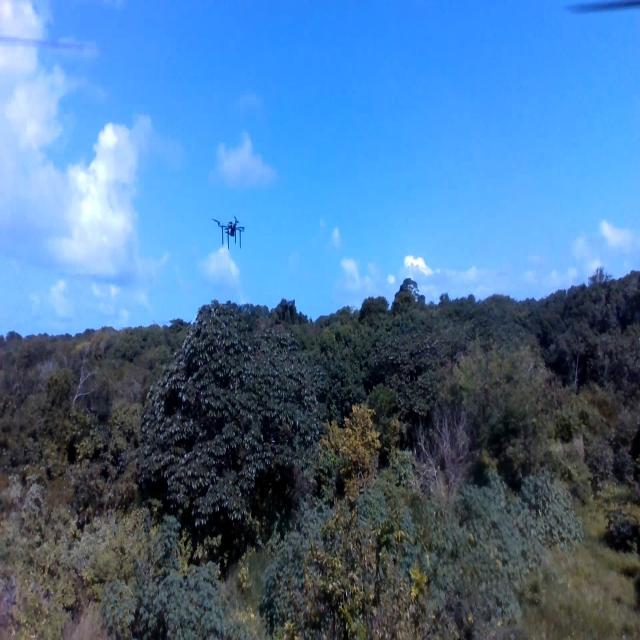-uav-: (207, 204, 251, 258)
